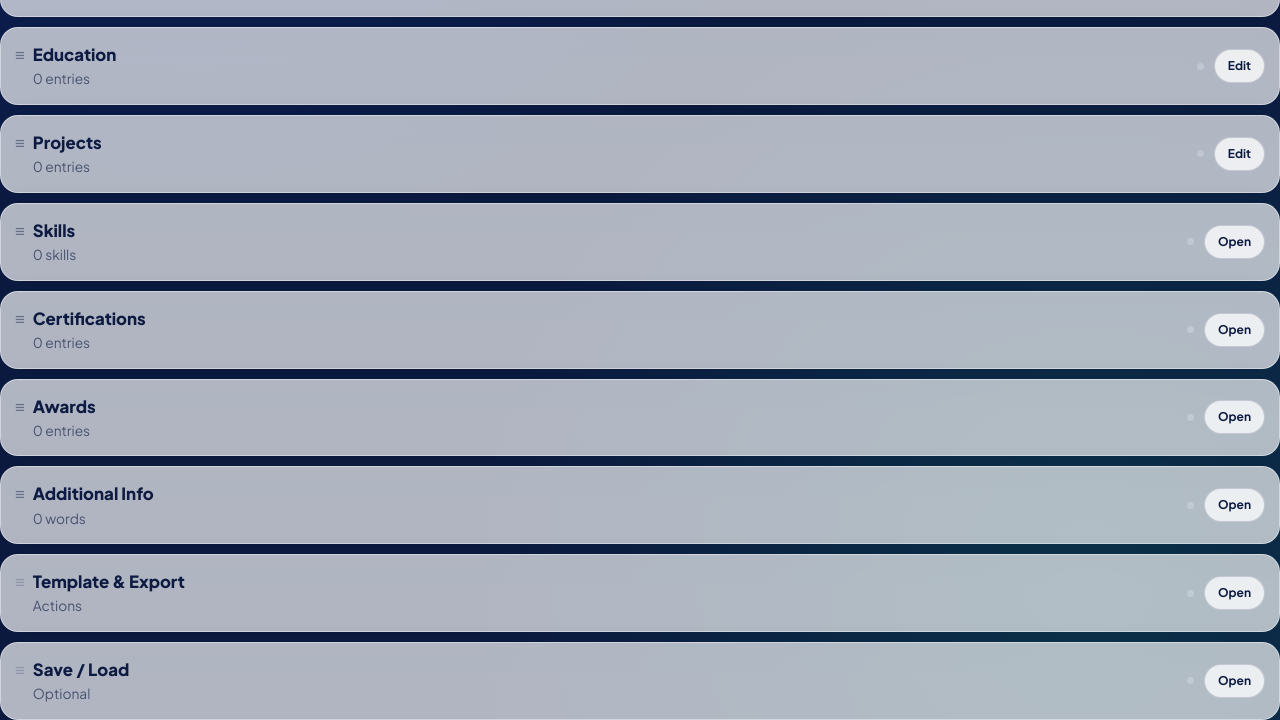
CVForm › renders export filename picker in template-export section
(page scrolled)
Click the button with class "card-action-btn" in the row of "Template & Export" at (1234, 593), box x1=1204 y1=576 x2=1265 y2=610
(page scrolled)
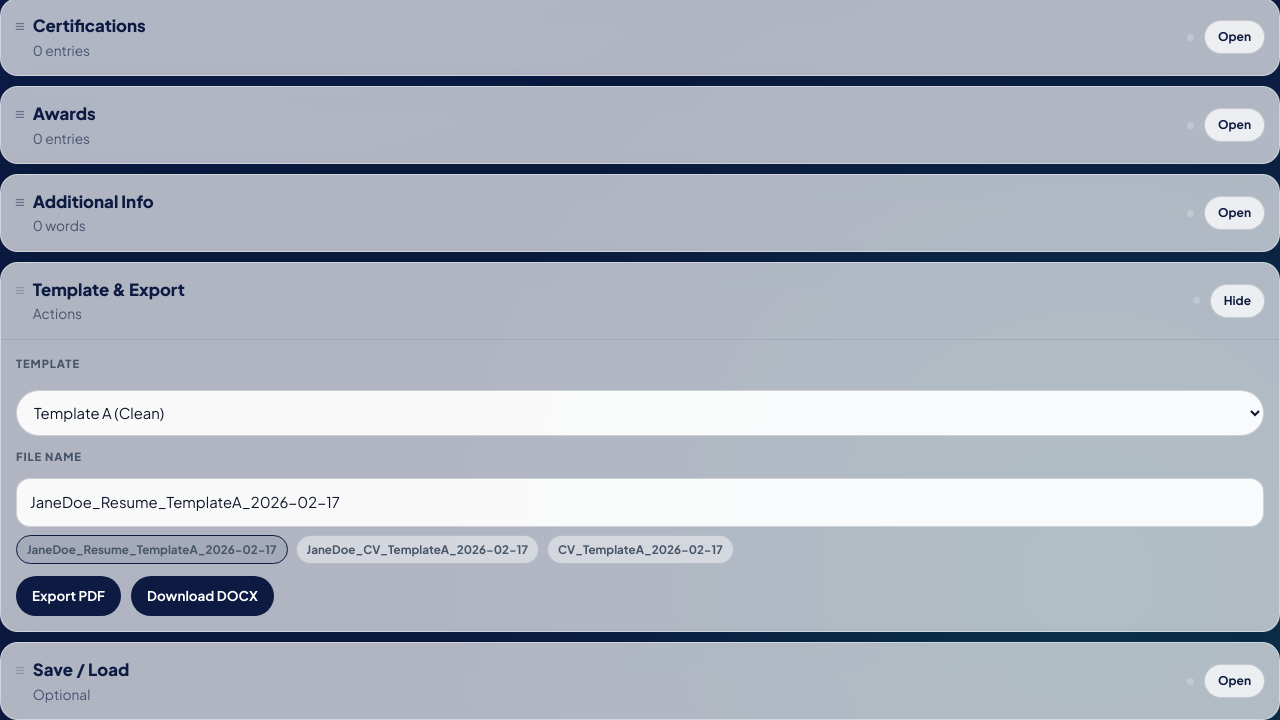
Expected: the field with id "export-filename" is shown, x1=16 y1=478 x2=1264 y2=527
Expected: the button with class "filename-suggestion-chip" that starts with "JaneDoe_Resume_TemplateA_2026-02-17" is shown, x1=16 y1=535 x2=288 y2=564
